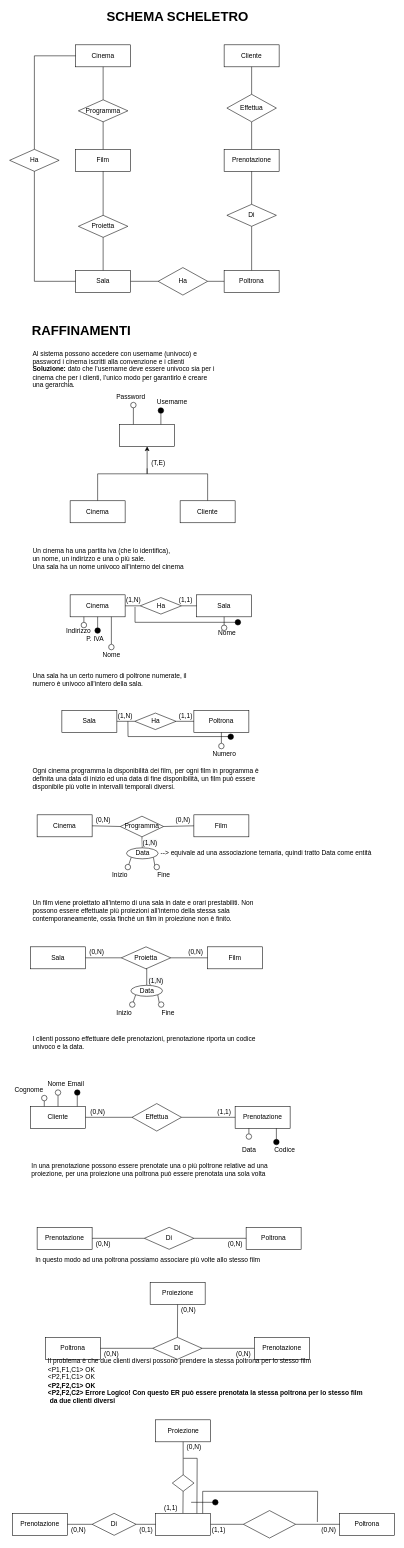
The diagram is 404 pixels wide and 1548 high, and some of its shapes have lost their labels. Each missing label, with the box of its shape:
In: (172, 1474, 194, 1491)
Poltrona in Proiezione ("Disponibilità"): (155, 1513, 211, 1535)
Su: (243, 1510, 296, 1538)
Utente: (119, 424, 175, 446)
